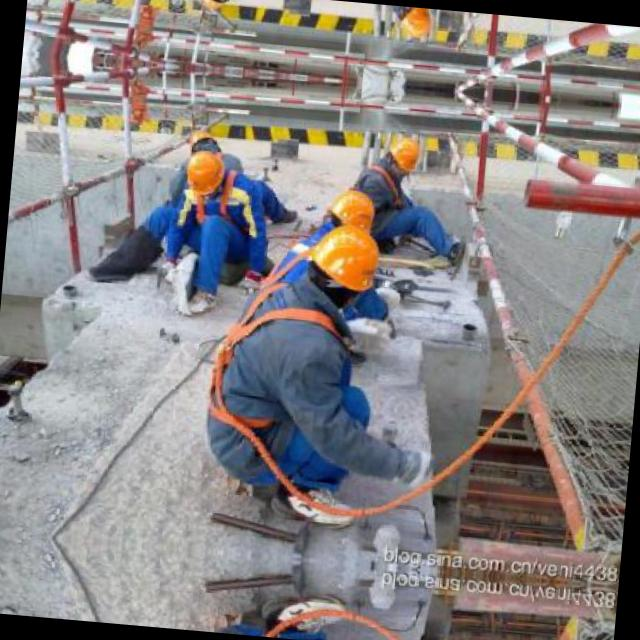helmet: (304, 216, 386, 305), (316, 178, 378, 240), (183, 142, 227, 198), (377, 130, 428, 178), (388, 5, 440, 44), (180, 118, 227, 156), (190, 0, 239, 22)
